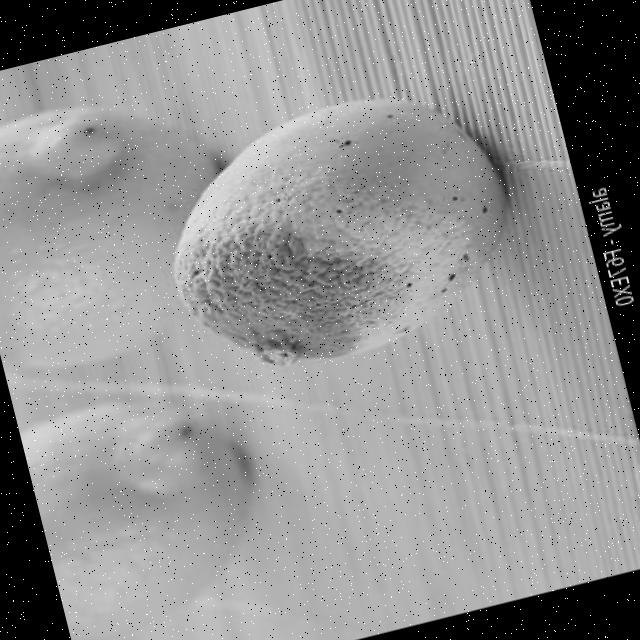Ripe: (16, 375, 273, 640)
Rotten: (140, 67, 536, 393)
